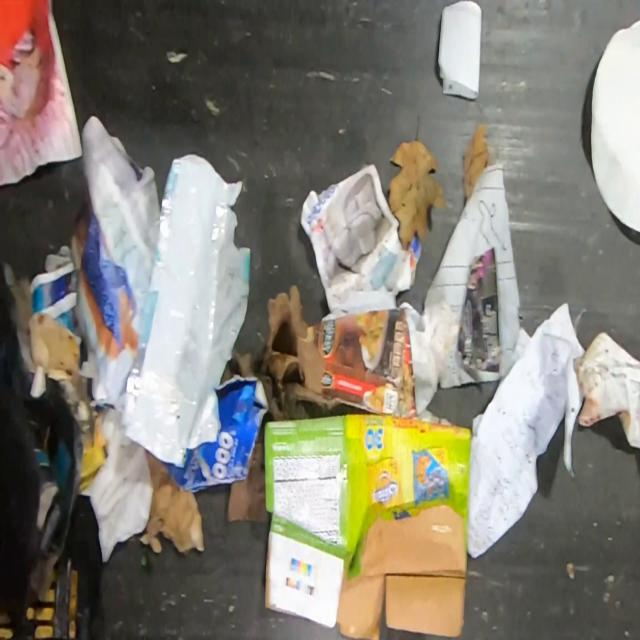cardboard: (265, 413, 470, 638), (260, 285, 458, 418), (138, 450, 205, 553)
soft_plastic: (124, 153, 252, 472)
